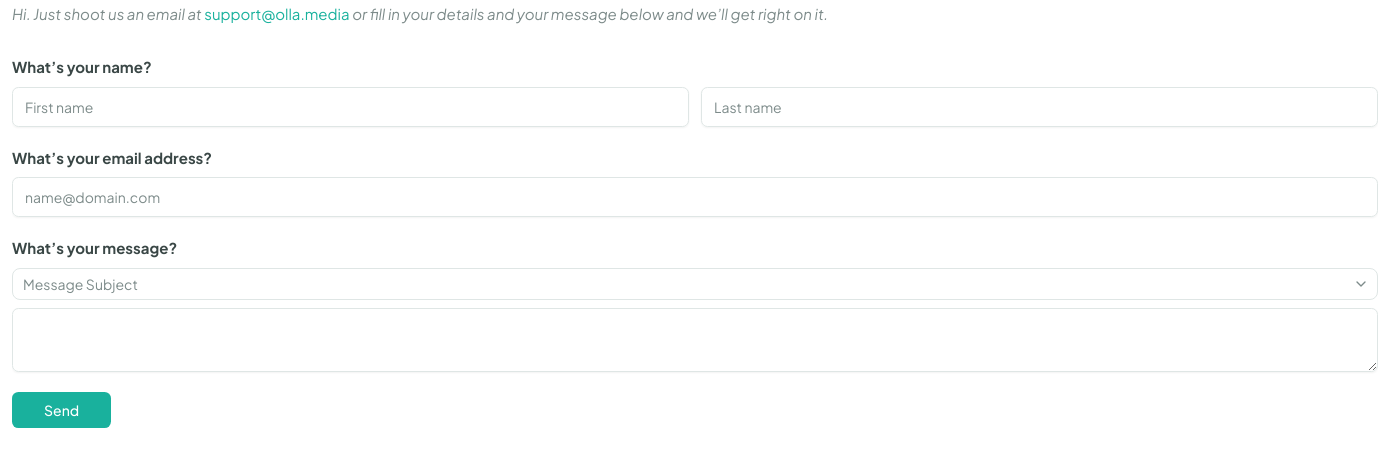
Scenario: ContactForm › requires a subject before submitting
Step 1. Type "Ada" into the field labelled "First name" → (350, 106), box top-left (12, 86), bottom-right (689, 126)
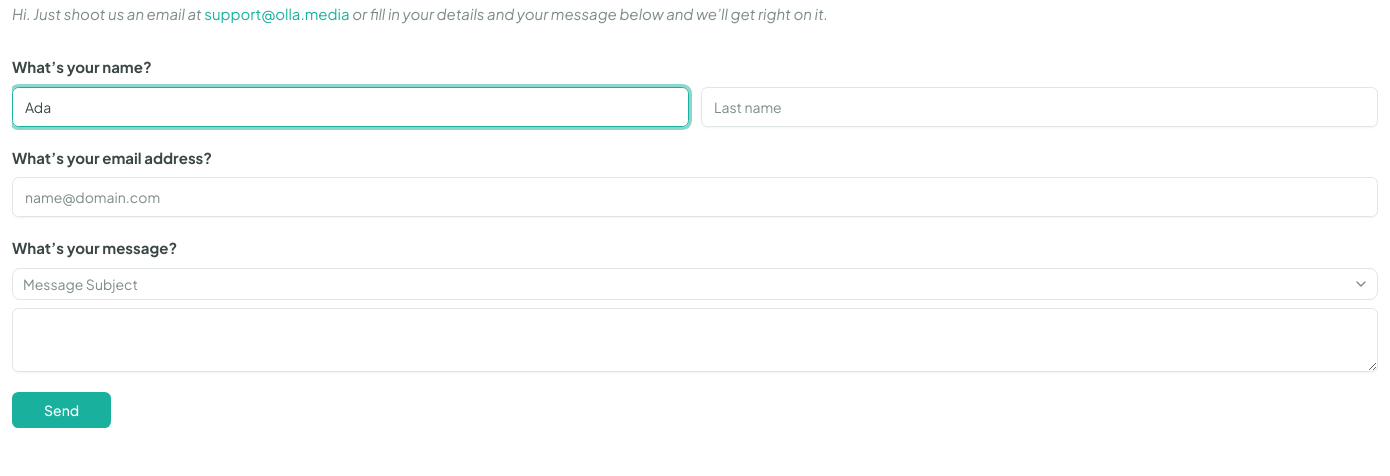
Step 2. Type "Lovelace" into the field labelled "Last name" → (1040, 106), box top-left (701, 86), bottom-right (1378, 126)
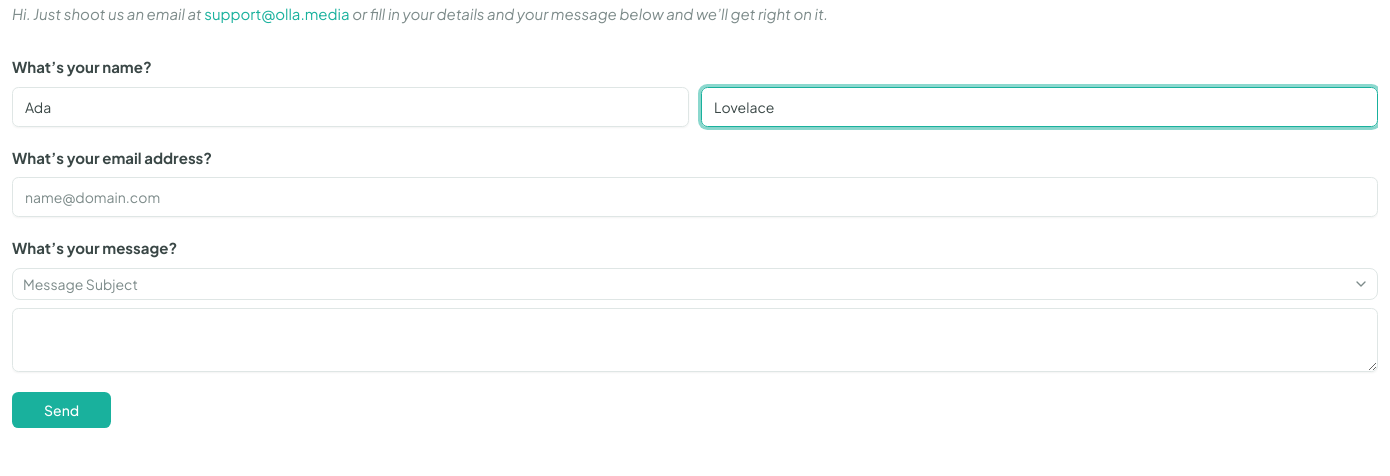
Step 3. Type "ada@example.com" into the field labelled "What’s your email address?" → (695, 197), box top-left (12, 177), bottom-right (1378, 217)
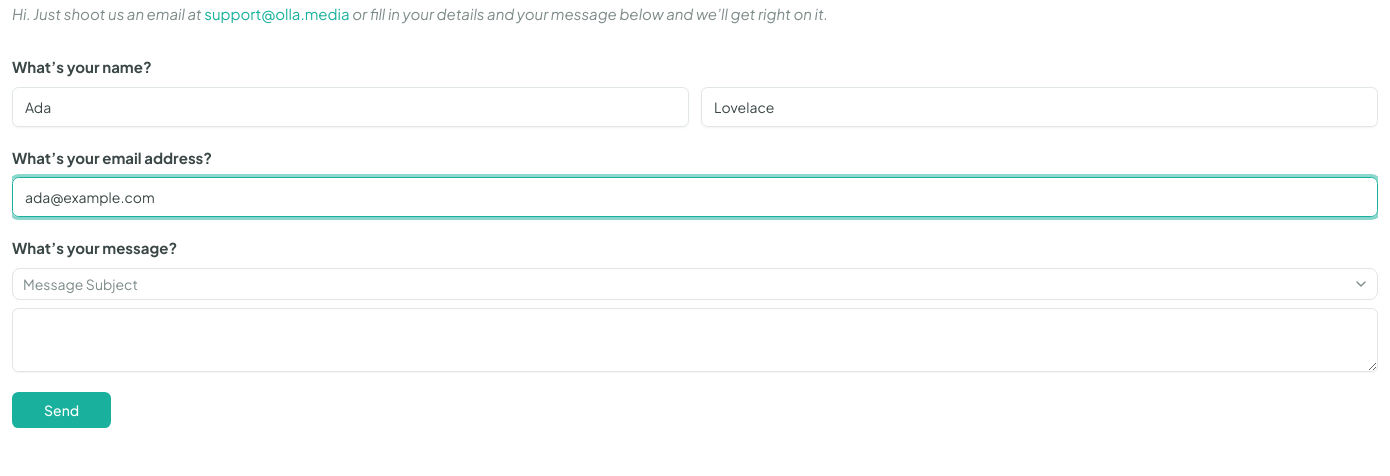
Step 4. Type "Please help" into the text box named "Message" → (695, 340), box top-left (12, 308), bottom-right (1378, 372)
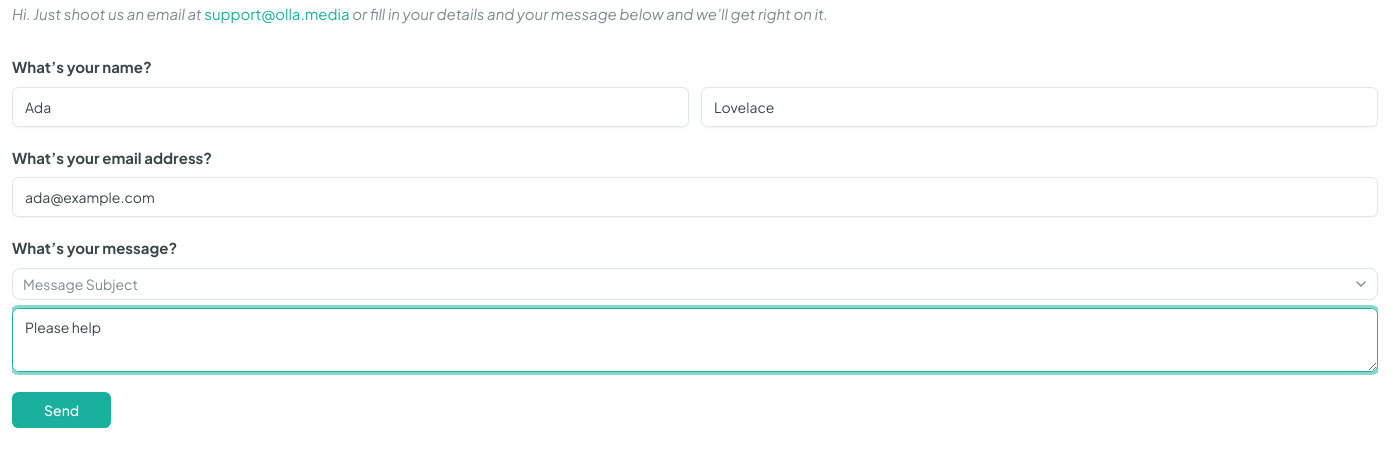
Step 5. Click the button "Send" → (62, 410), box top-left (12, 392), bottom-right (111, 428)
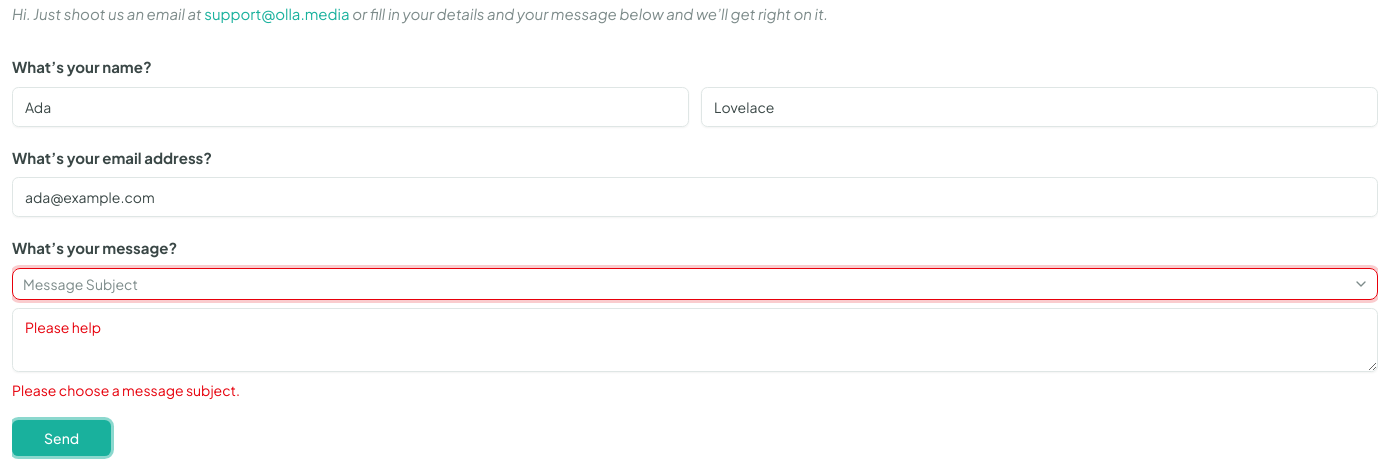
Result: the text "Please choose a message subject." is shown at top-left (12, 380), bottom-right (240, 398)
